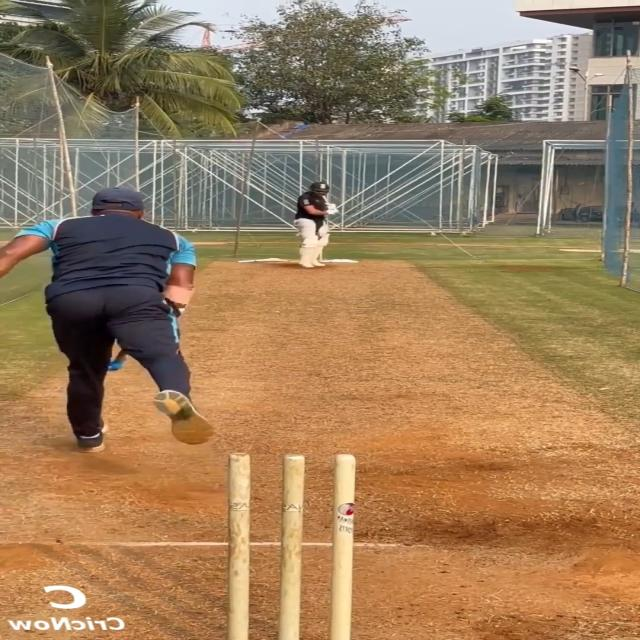stump: (220, 452, 360, 640)
